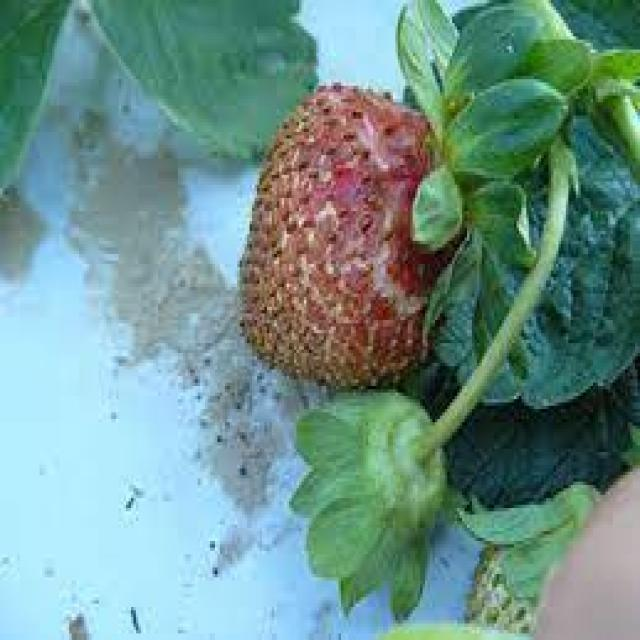Podredumbre de cuero: (242, 83, 423, 364)
